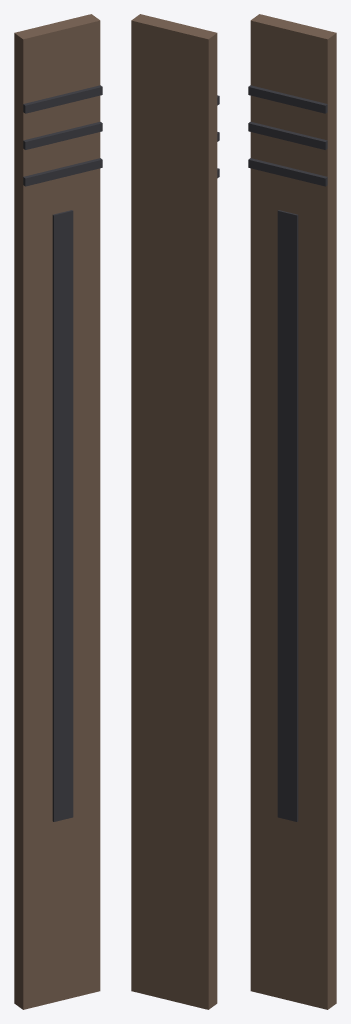
Rendered from prop_sotoba.glb.
3 renders of one model, left to right at view 1: azimuth 30°, elevation 25°; view 2: azimuth 150°, elevation 25°; view 3: azimuth 330°, elevation 25°, orthographic.
Visible parts, largest first — view 1: sotoba; view 2: sotoba; view 3: sotoba.
Boxes of the visible parts, x1,y1,x2,y2 form: sotoba: (14, 14, 102, 1009); sotoba: (131, 14, 219, 1009); sotoba: (248, 14, 336, 1009).
Size of the model in its own units: 0.2 by 2.4 by 0.05.
